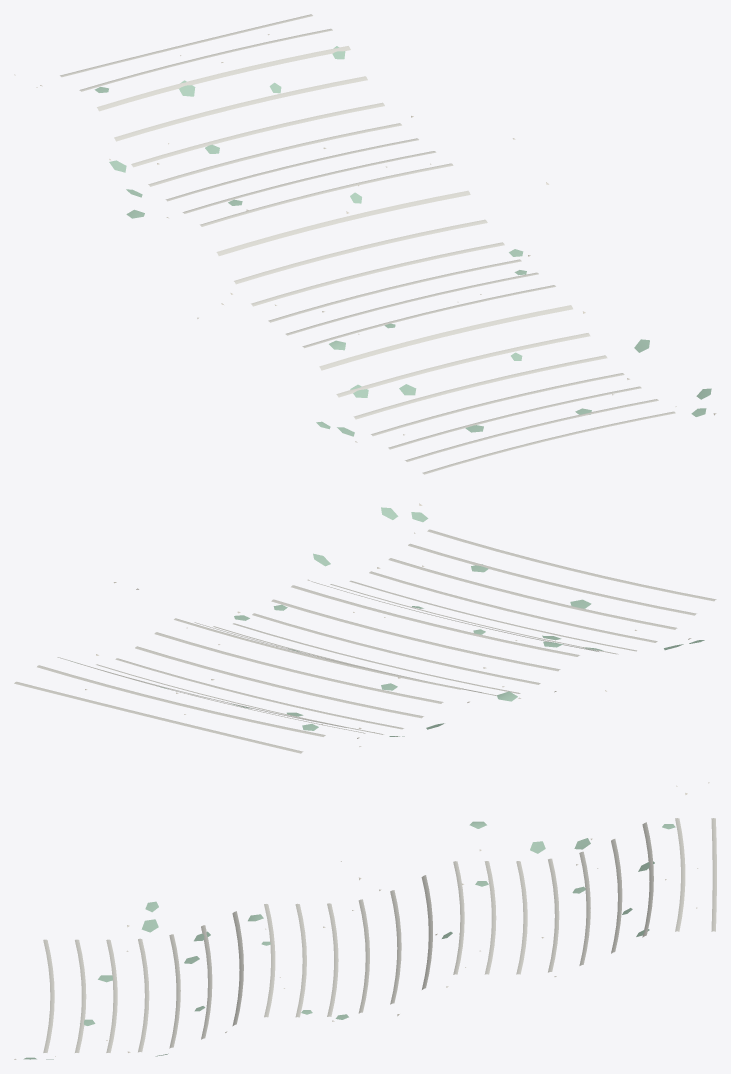
File: tailings_lip_detail2.glb
3 views of the same model, one above another, from view 1: azimuth 30°, elevation 25°; view 2: azimuth 150°, elevation 25°; view 3: azimuth 270°, elevation 25° (orthographic). The views are drawn at different scales.
Visible parts, largest first — view 1: tailings_lip_detail2_mesh; view 2: tailings_lip_detail2_mesh; view 3: tailings_lip_detail2_mesh.
Boxes of the visible parts, <box> form: tailings_lip_detail2_mesh: <box>14,14,716,474</box>; tailings_lip_detail2_mesh: <box>14,503,716,753</box>; tailings_lip_detail2_mesh: <box>14,782,716,1059</box>.
Size of the model in its own units: 25.84 by 9.51 by 44.58.
